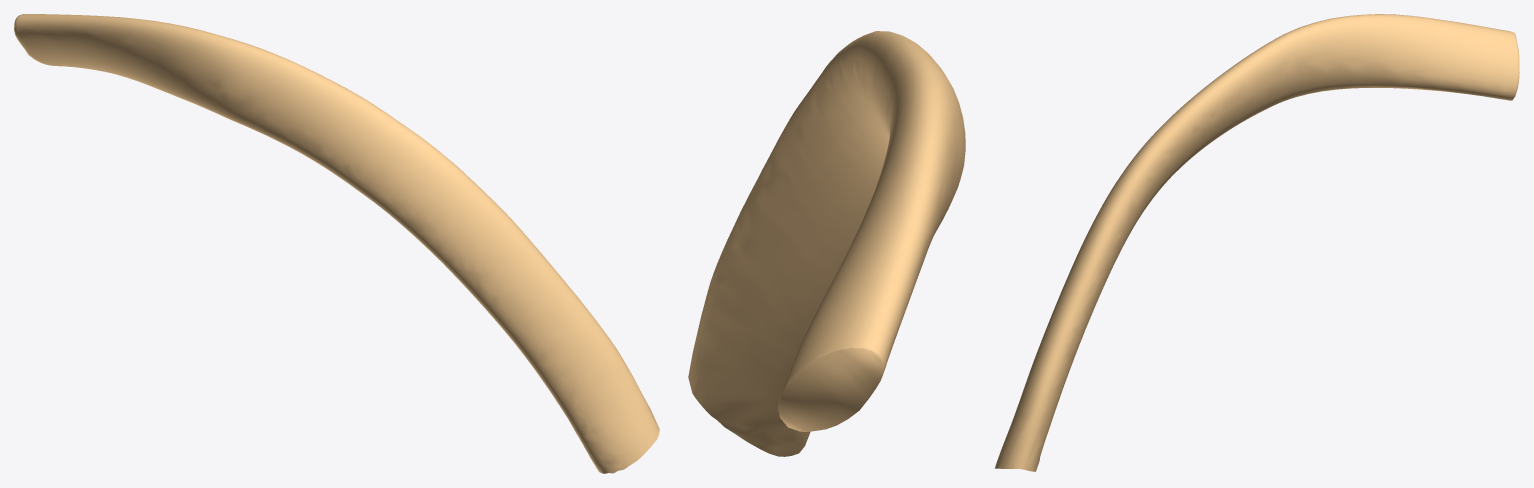
File: N_suprascapular.glb
The picture shows the model from 3 angles, left to right: view 1: azimuth 30°, elevation 25°; view 2: azimuth 150°, elevation 25°; view 3: azimuth 270°, elevation 25°; orthographic projection. The views are drawn at different scales.
Visible parts, largest first — view 1: N_suprascapular.obj; view 2: N_suprascapular.obj; view 3: N_suprascapular.obj.
Part boxes in pixels (x1=…): N_suprascapular.obj: x1=14, y1=14, x2=659, y2=473; N_suprascapular.obj: x1=688, y1=31, x2=965, y2=456; N_suprascapular.obj: x1=994, y1=14, x2=1519, y2=471.
Bounding box in the file's own units: 0.000816 × 0.000788 × 0.00109.
